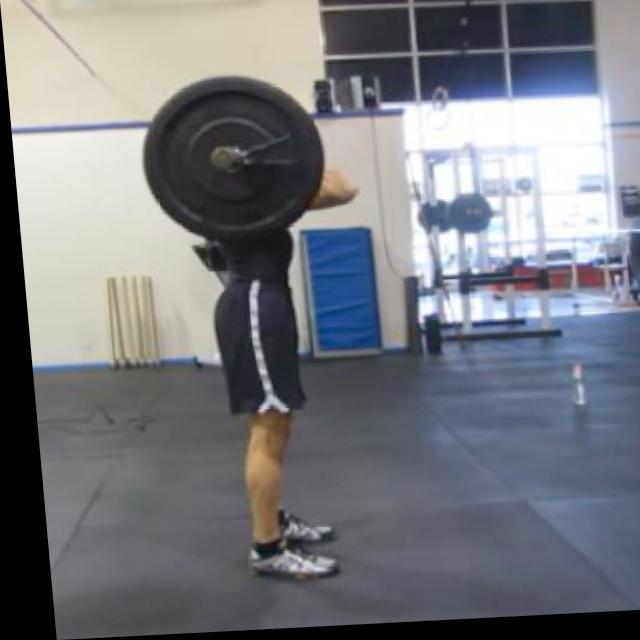barbell: (127, 72, 331, 249)
